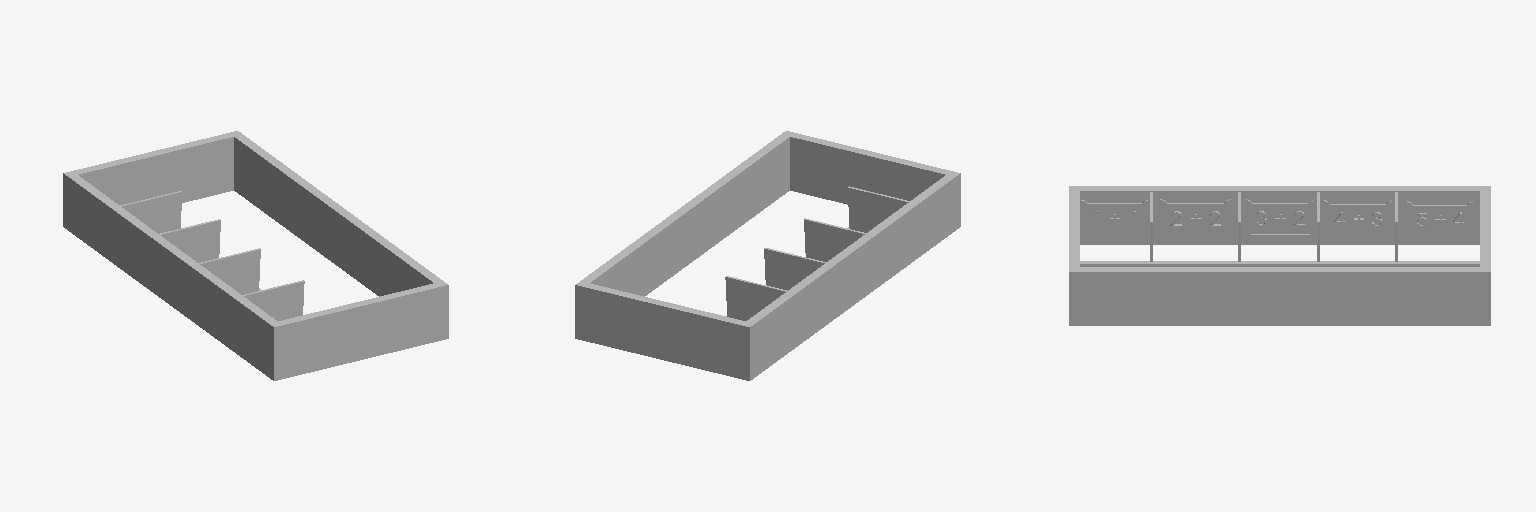
Rendered from ruangan.obj.
3 renders of one model, left to right at view 1: azimuth 30°, elevation 25°; view 2: azimuth 150°, elevation 25°; view 3: azimuth 270°, elevation 25°, orthographic.
Visible parts, largest first — view 1: Cube_Cube.001, Plane.001_Plane.004, Plane.002_Plane.005, Plane.004_Plane.007, Plane_Plane.002; view 2: Cube_Cube.001, Plane_Plane.002, Plane.004_Plane.007, Plane.001_Plane.004, Plane.002_Plane.005; view 3: Cube_Cube.001, Cube.001_Cube.019, Cube.004, Cube.010, Cube.007, Cube.013, Cube.016.
Part boxes in pixels (left/top/right/bottom): Cube_Cube.001: left=63, top=131, right=448, bottom=380; Plane.001_Plane.004: left=199, top=248, right=260, bottom=294; Plane.002_Plane.005: left=159, top=219, right=220, bottom=262; Plane.004_Plane.007: left=120, top=191, right=181, bottom=233; Plane_Plane.002: left=243, top=280, right=304, bottom=320; Cube_Cube.001: left=575, top=131, right=960, bottom=380; Plane_Plane.002: left=848, top=186, right=909, bottom=232; Plane.004_Plane.007: left=725, top=276, right=786, bottom=320; Plane.001_Plane.004: left=804, top=218, right=865, bottom=261; Plane.002_Plane.005: left=764, top=248, right=826, bottom=290; Cube_Cube.001: left=1069, top=186, right=1490, bottom=325; Cube.001_Cube.019: left=1080, top=261, right=1479, bottom=266; Cube.004: left=1165, top=206, right=1225, bottom=234; Cube.010: left=1251, top=206, right=1309, bottom=233; Cube.007: left=1086, top=207, right=1142, bottom=233; Cube.013: left=1329, top=207, right=1386, bottom=234; Cube.016: left=1412, top=208, right=1467, bottom=234.
Bounding box in the file's own units: 10.78 × 3.18 × 22.54.